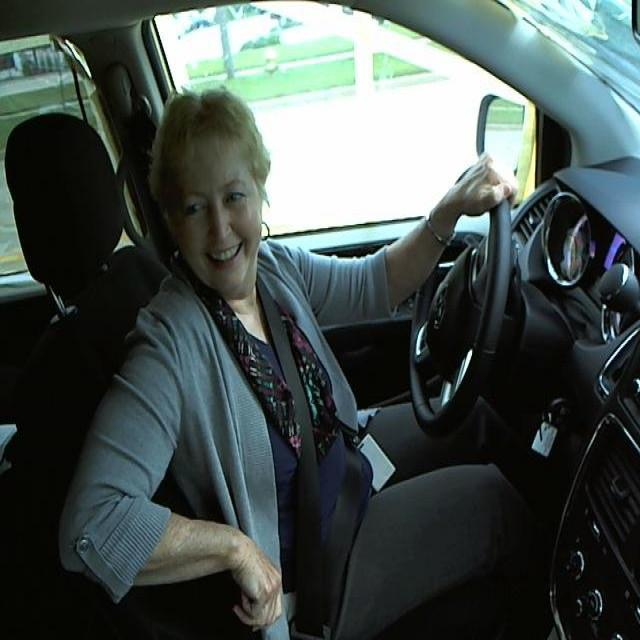seatbelt: (251, 293, 361, 608)
